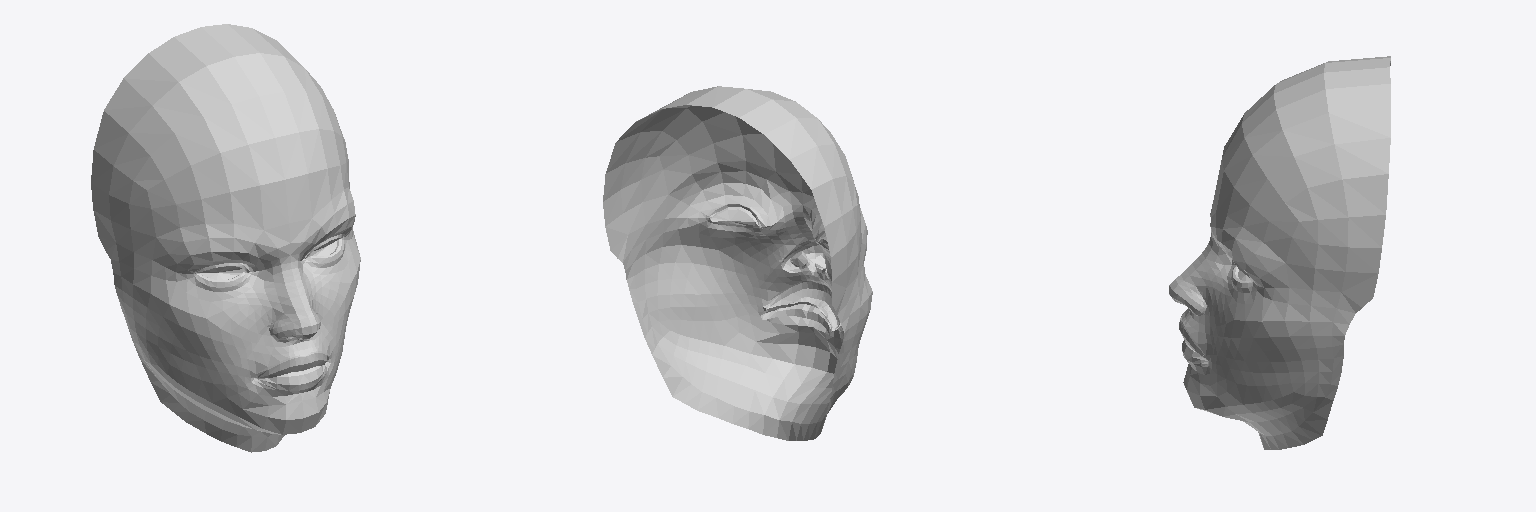
Rendered from head.obj.
3 views of the same model, side by side, from view 1: azimuth 30°, elevation 25°; view 2: azimuth 150°, elevation 25°; view 3: azimuth 270°, elevation 25° (orthographic).
Parts seen in each view (by area): view 1: glava02; view 2: glava02; view 3: glava02.
Boxes of the visible parts, x1=… form: glava02: x1=91, y1=24, x2=360, y2=452; glava02: x1=603, y1=86, x2=872, y2=440; glava02: x1=1169, y1=56, x2=1390, y2=449.
Size of the model in its own units: 17.54 by 27.73 by 14.82.